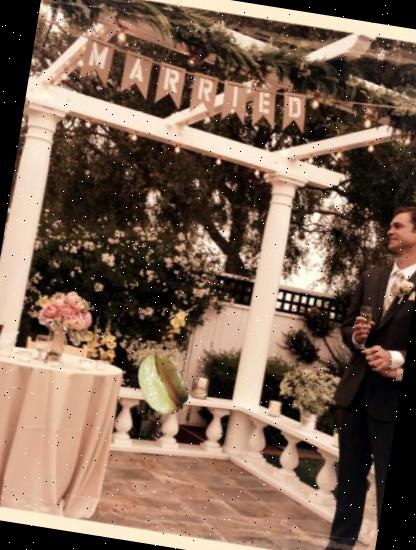Carambula: (125, 348, 198, 421)
